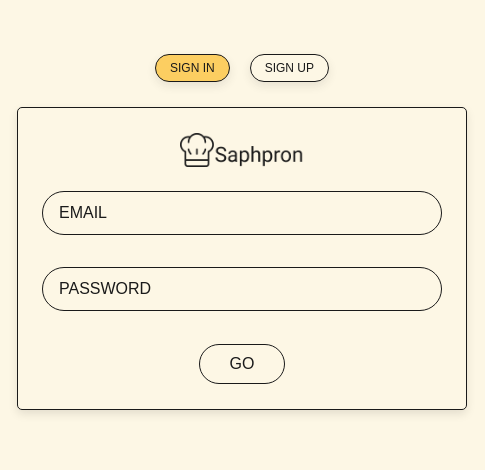
Test: renderes the SignupFeature
// TEST SIGNUP
Click the button "SIGN UP": [289, 68] box x1=250 y1=54 x2=329 y2=82
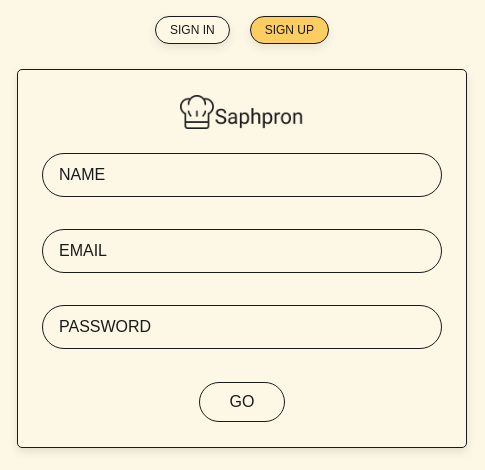
Expected: no elements with class "signinfeature" are shown
Expected: the number of elements with class "signupfeature" is 1, x1=43 y1=154 x2=441 y2=422
